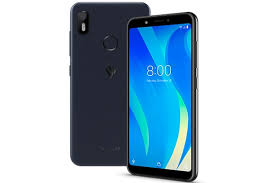vsmart: (68, 1, 150, 168), (125, 10, 199, 182)
